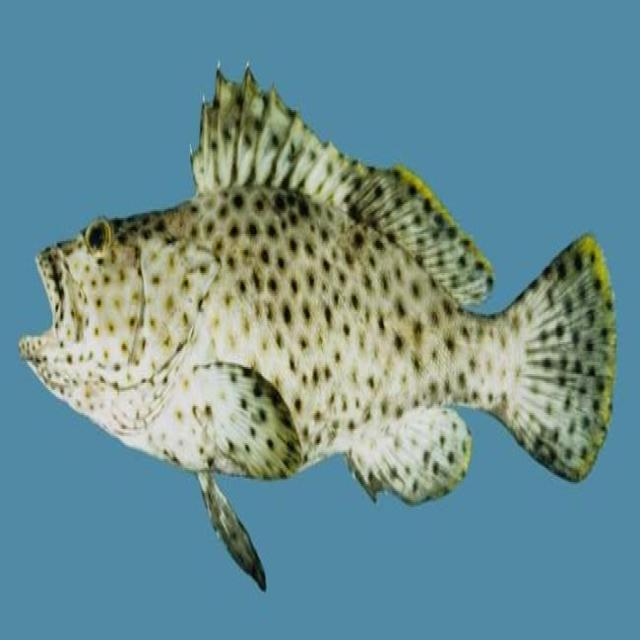ikan: (18, 59, 617, 592)
